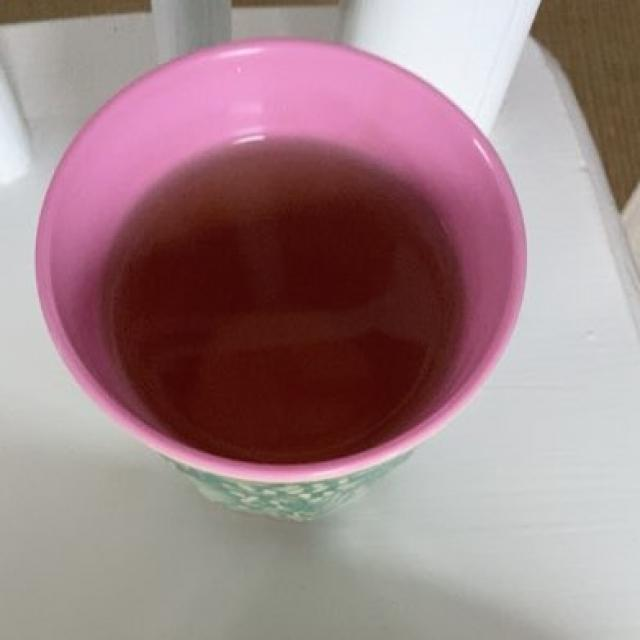tea: (104, 145, 462, 452)
